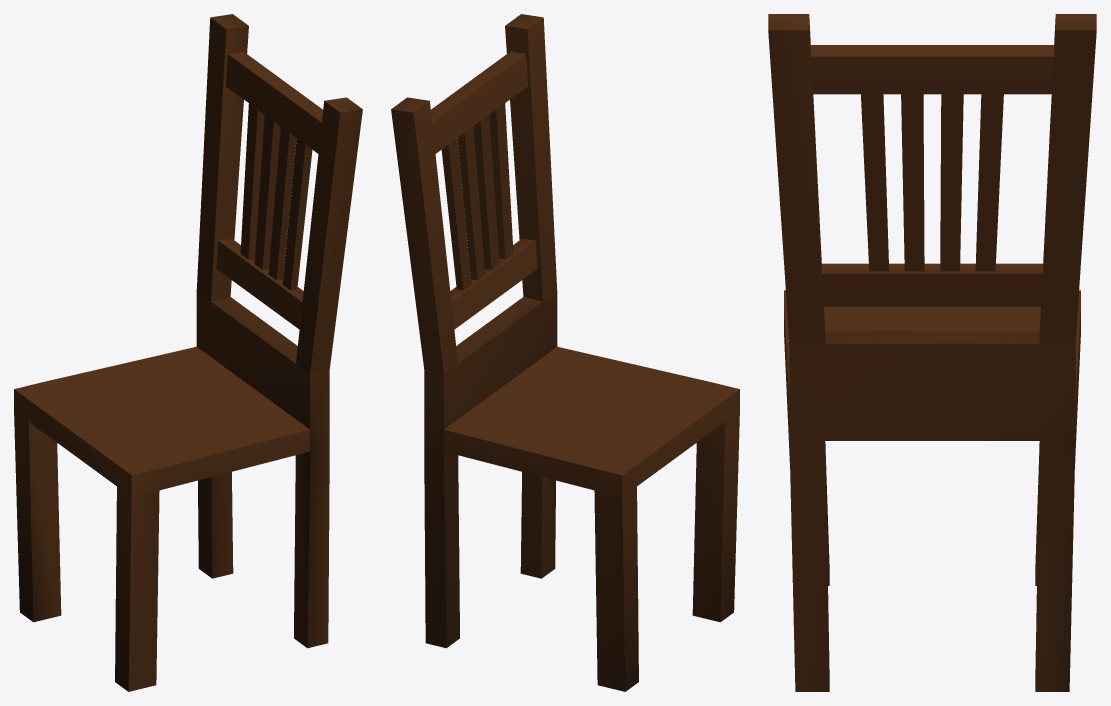
The model's file is Chair.fbx.
The picture shows the model from 3 angles, left to right: view 1: azimuth 30°, elevation 25°; view 2: azimuth 150°, elevation 25°; view 3: azimuth 270°, elevation 25°; orthographic projection. The views are drawn at different scales.
Parts seen in each view (by area): view 1: pCube11; view 2: pCube11; view 3: pCube11.
Part boxes in pixels (bbox=[...]): pCube11: bbox=[14, 14, 362, 691]; pCube11: bbox=[391, 14, 739, 691]; pCube11: bbox=[768, 14, 1096, 691].
Bounding box in the file's own units: 257 × 588 × 258.
